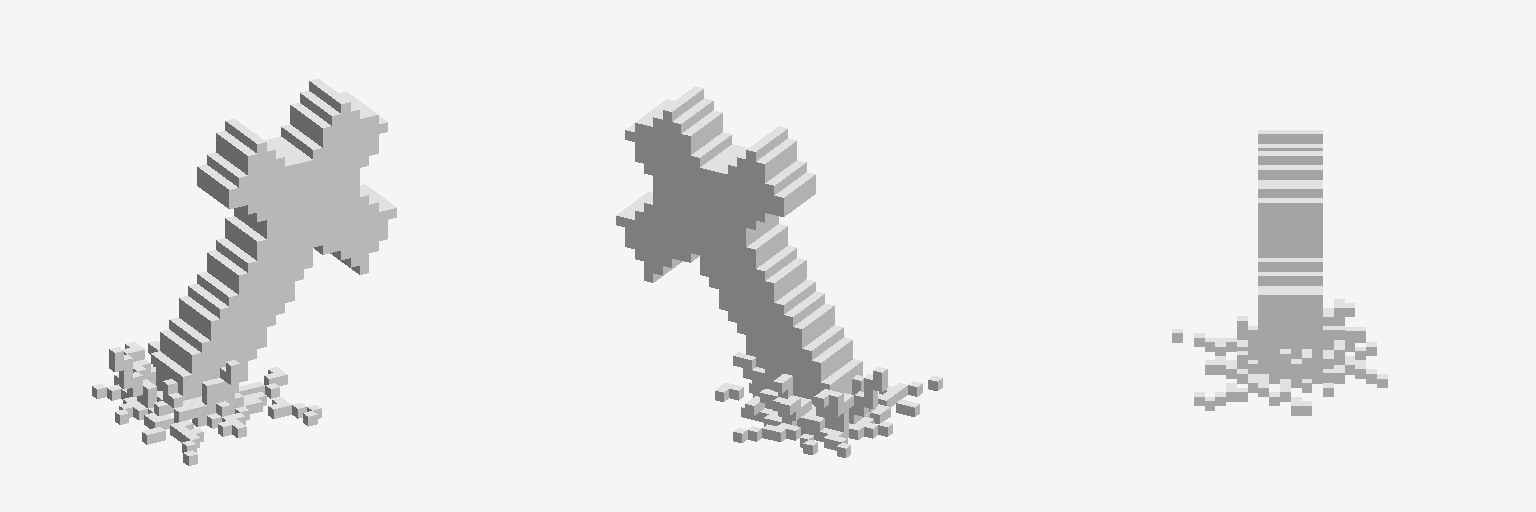
File: GraveStone.obj
The picture shows the model from 3 angles: view 1: azimuth 30°, elevation 25°; view 2: azimuth 150°, elevation 25°; view 3: azimuth 270°, elevation 25°; orthographic projection.
Visible parts, largest first — view 1: object 1; view 2: object 1; view 3: object 1.
Boxes of the visible parts, box(x1,y1,x2,y2) form: object 1: box(92, 79, 396, 465); object 1: box(616, 86, 942, 457); object 1: box(1172, 130, 1387, 415).
Size of the model in its own units: 2.8 by 2.9 by 2.